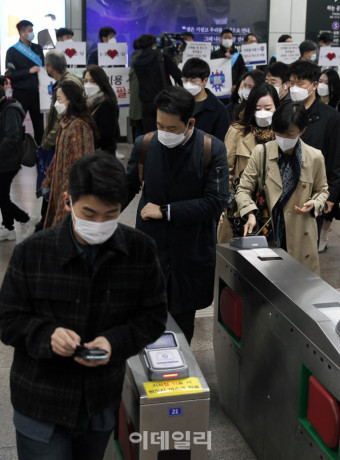mask: (74, 216, 119, 245), (155, 129, 186, 148), (274, 135, 300, 152), (252, 109, 275, 127), (288, 86, 309, 102), (82, 81, 102, 97), (182, 82, 201, 96), (53, 99, 67, 116), (315, 83, 330, 97), (220, 37, 233, 47), (27, 31, 35, 41)
